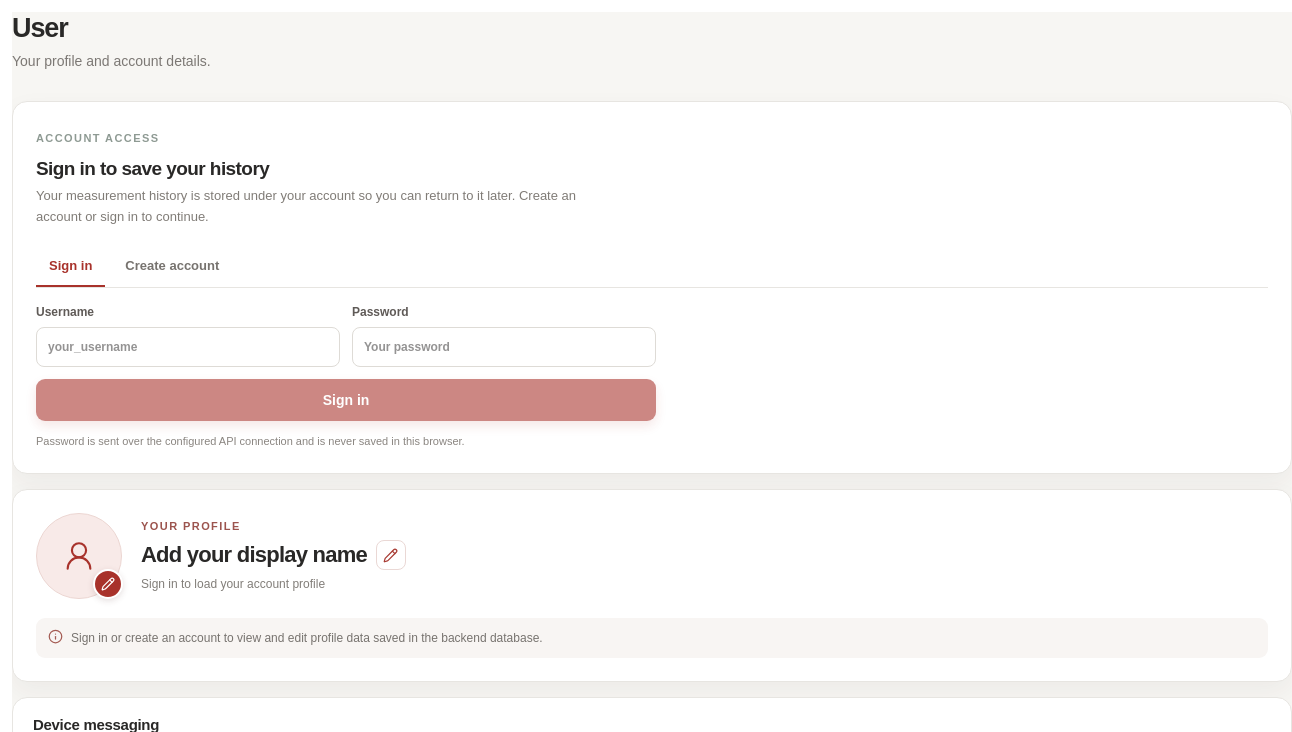
account sign-in UI › leaves the login view only after the returned token loads the account profile
Type "mehul" into the field labelled "Username" at (188, 347), box [36,327,340,367]
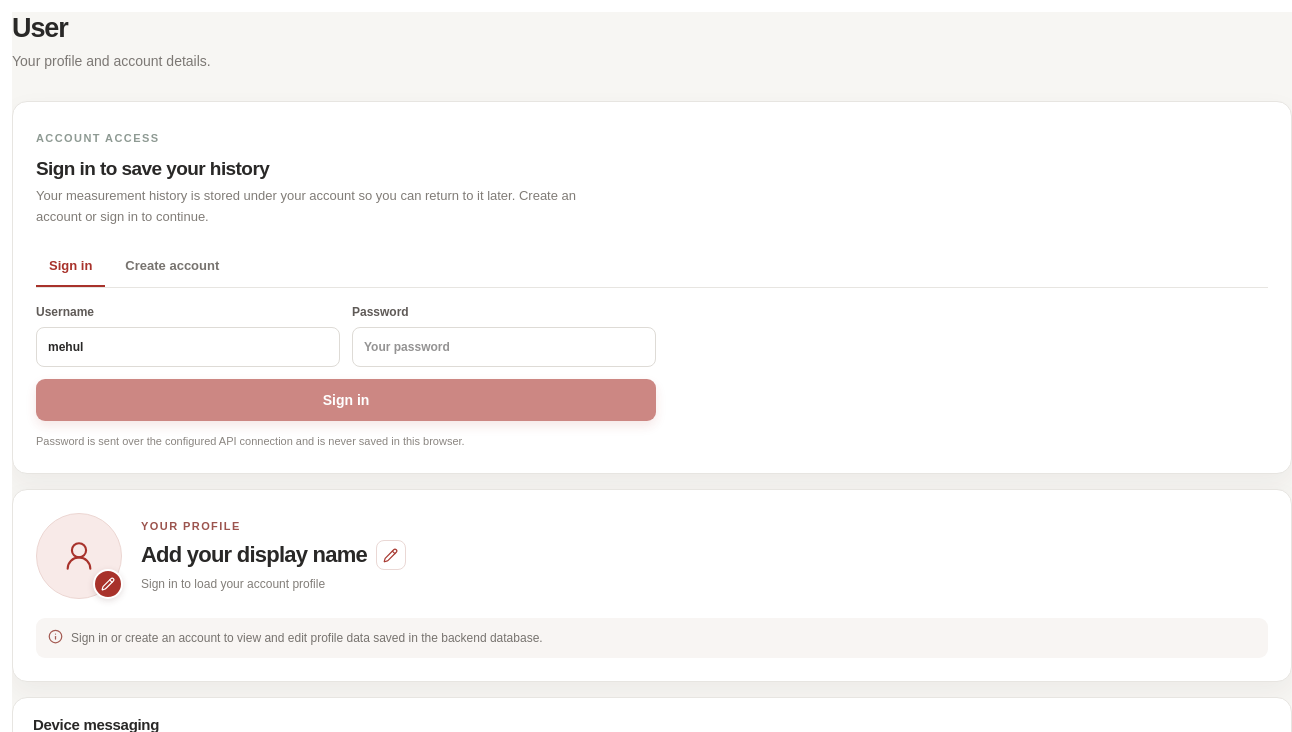
Type "correct horse battery staple" into the password field labelled "Password" at (504, 347), box [352,327,656,367]
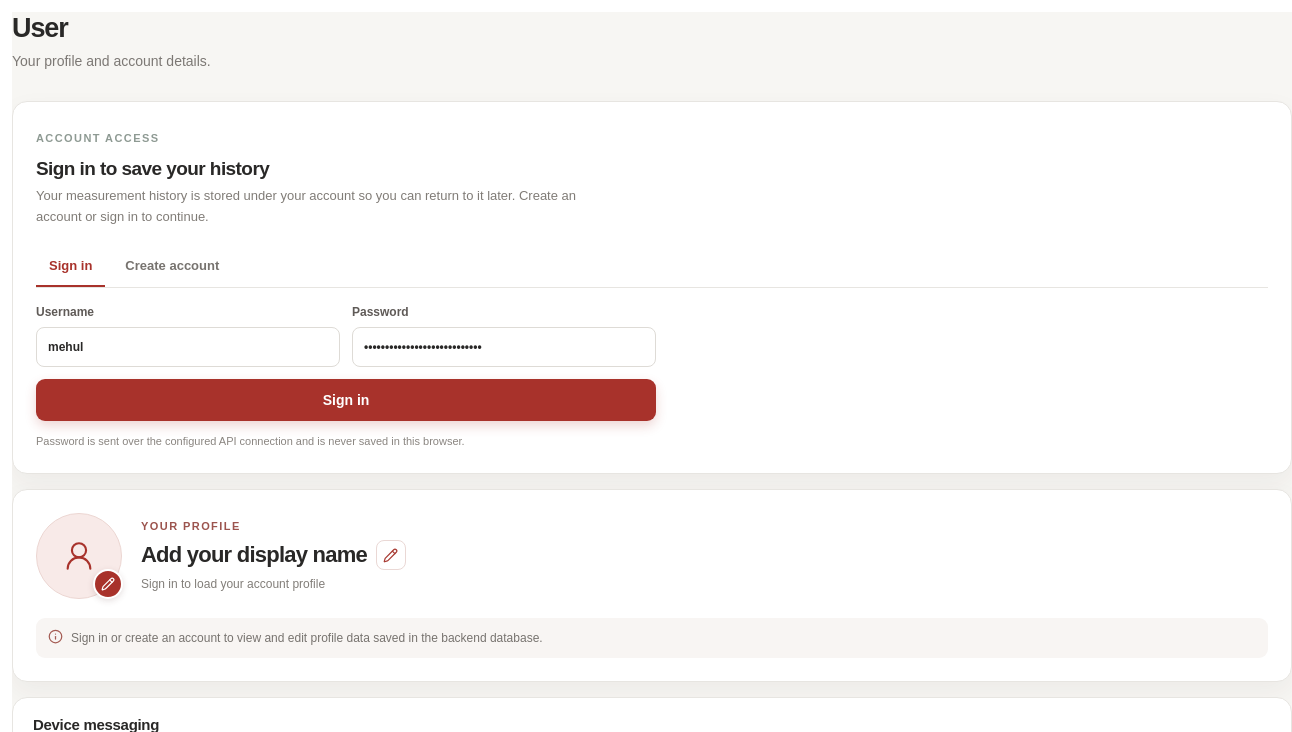
Click the button "Sign in" below "Username" at (346, 400), box [36,379,656,421]
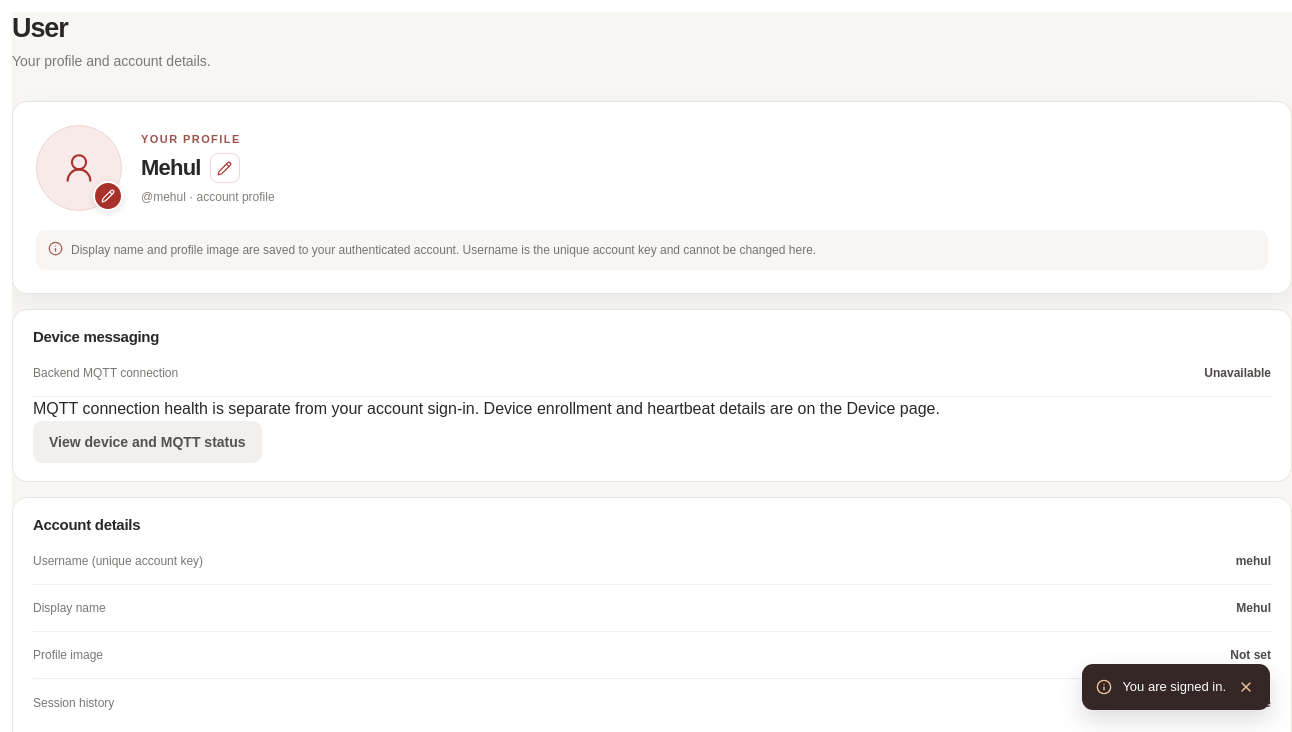
Expected: the text "@mehul · account profile" is shown, [141,190,275,204]
Expected: the heading "Sign in to save your history" is gone
